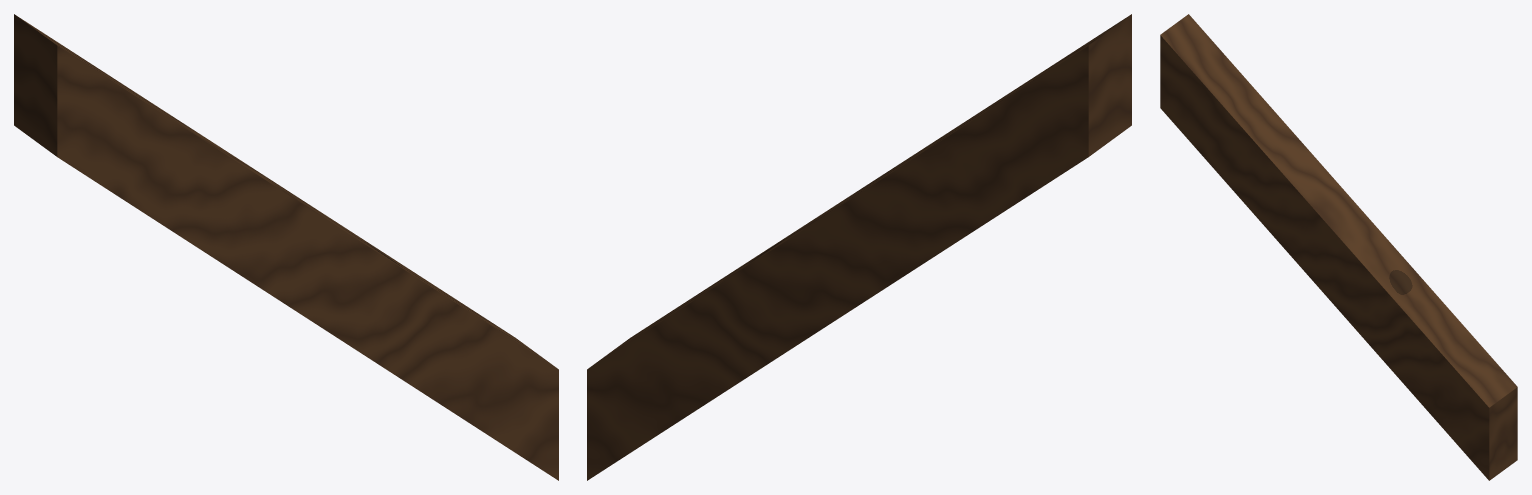
The model's file is brace_right.glb.
3 views of the same model, side by side, from view 1: azimuth 30°, elevation 25°; view 2: azimuth 150°, elevation 25°; view 3: azimuth 330°, elevation 25° (orthographic). The views are drawn at different scales.
Parts seen in each view (by area): view 1: brace_right; view 2: brace_right; view 3: brace_right.
Boxes of the visible parts, x1,y1,x2,y2 form: brace_right: (14,14,558,480); brace_right: (587,14,1131,480); brace_right: (1160,14,1517,480).
Size of the model in its own units: 0.8 by 0.85 by 0.12.
1 material, 1 textured.
